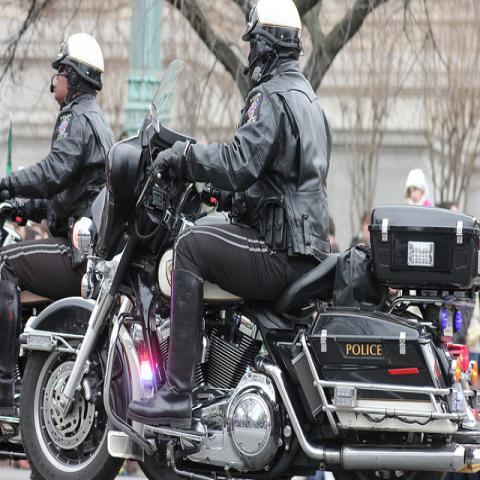motorcycle: (18, 58, 479, 479), (1, 286, 56, 440)
